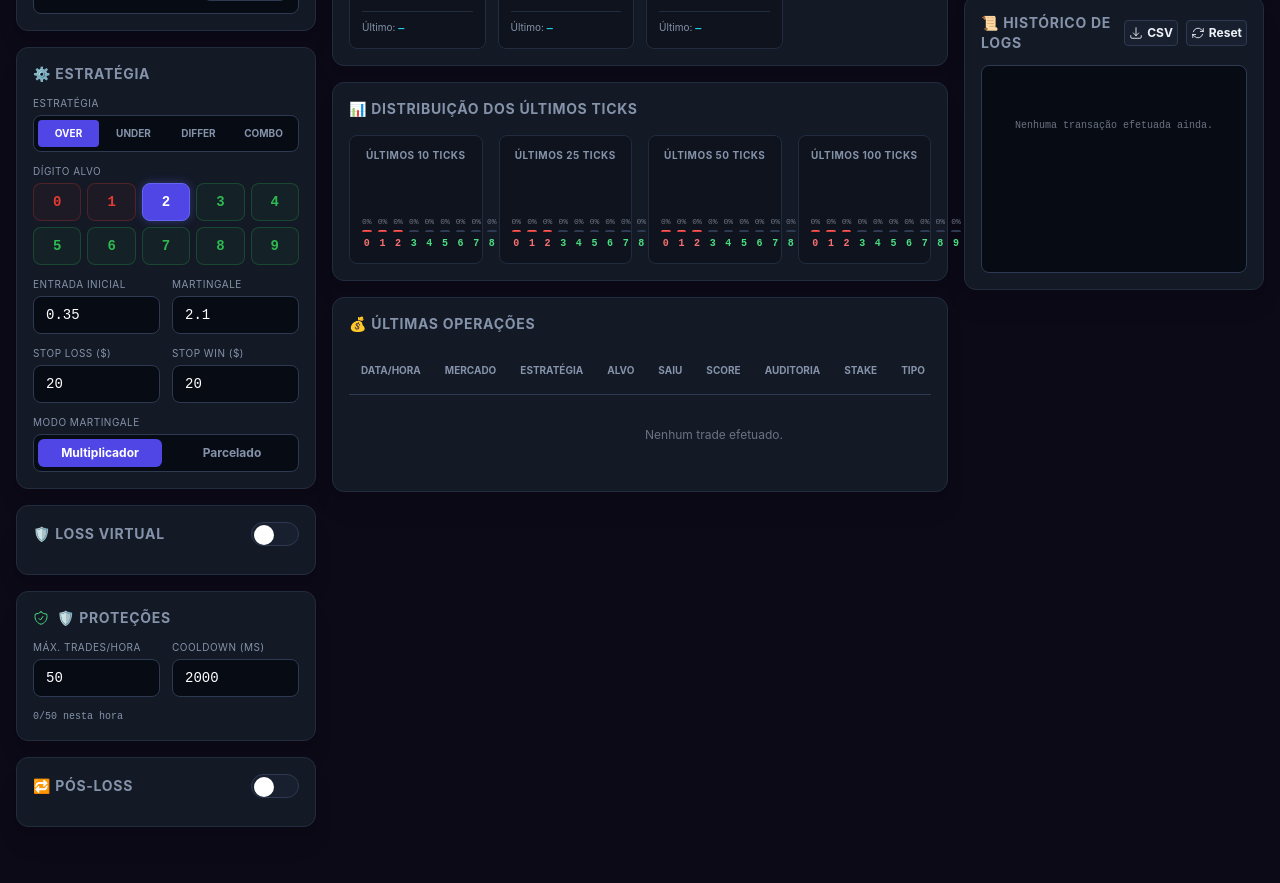
Scenario: BearBotUltra 2.0 Component › mostra a cota das proteções e limita máx. trades/hora a 500
(page scrolled)
Expected: the text "0/50 nesta hora" is shown, [33, 710, 123, 722]
Replace the text in the number field showing "50" below "Máx. trades/hora" with "999" at (96, 678), box [33, 658, 160, 696]
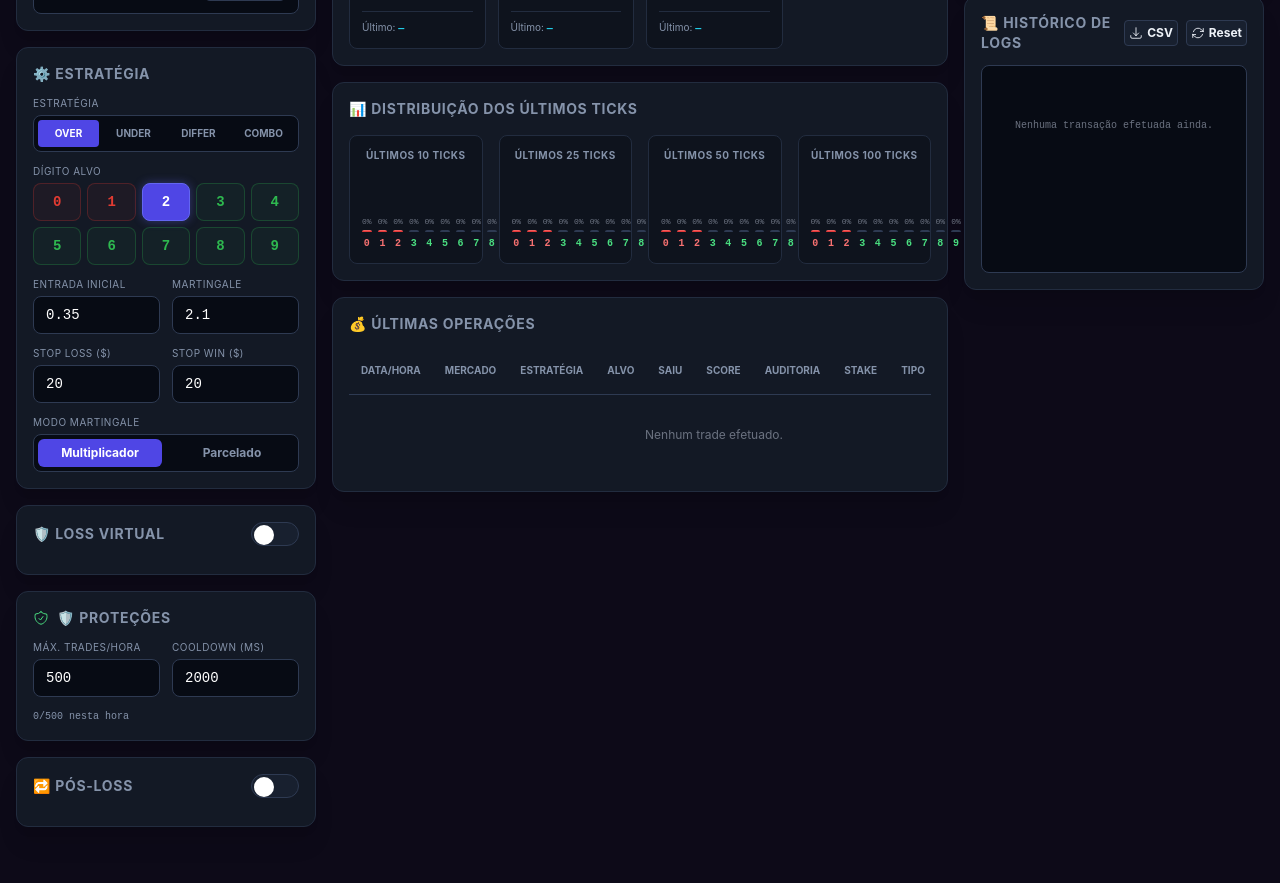
Expected: the number field showing "50" below "Máx. trades/hora" holds "500"
Replace the text in the number field showing "50" below "Máx. trades/hora" with "abc" at (96, 678), box [33, 658, 160, 696]
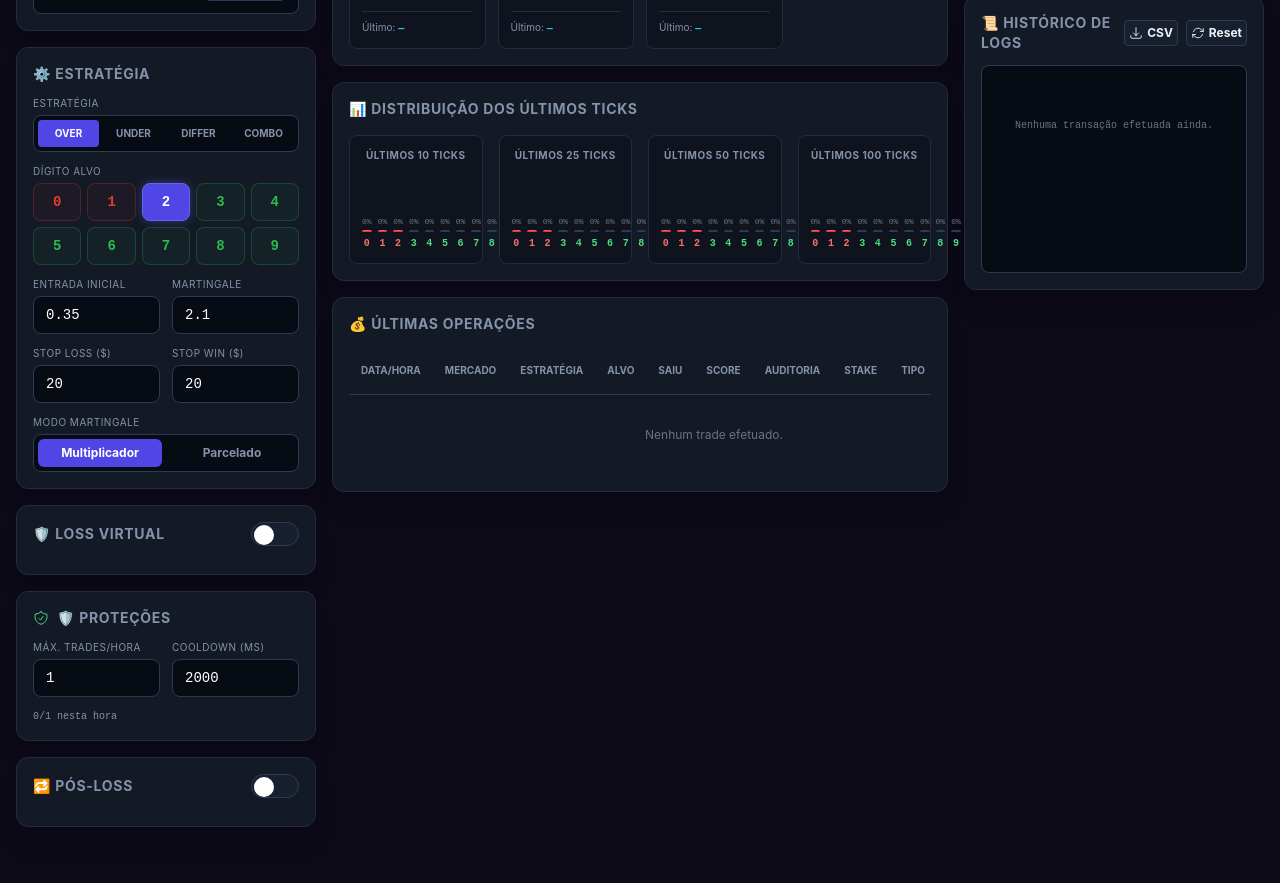
Expected: the number field showing "50" below "Máx. trades/hora" holds "1", [33, 658, 160, 696]
